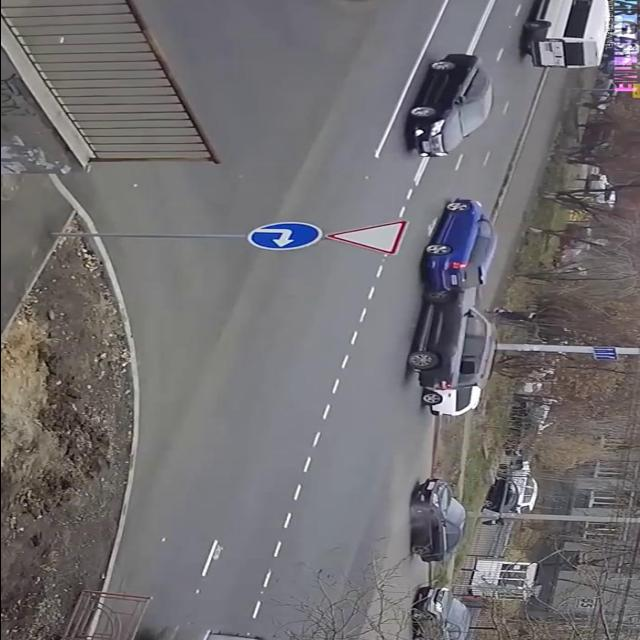accident: (400, 195, 506, 393)
